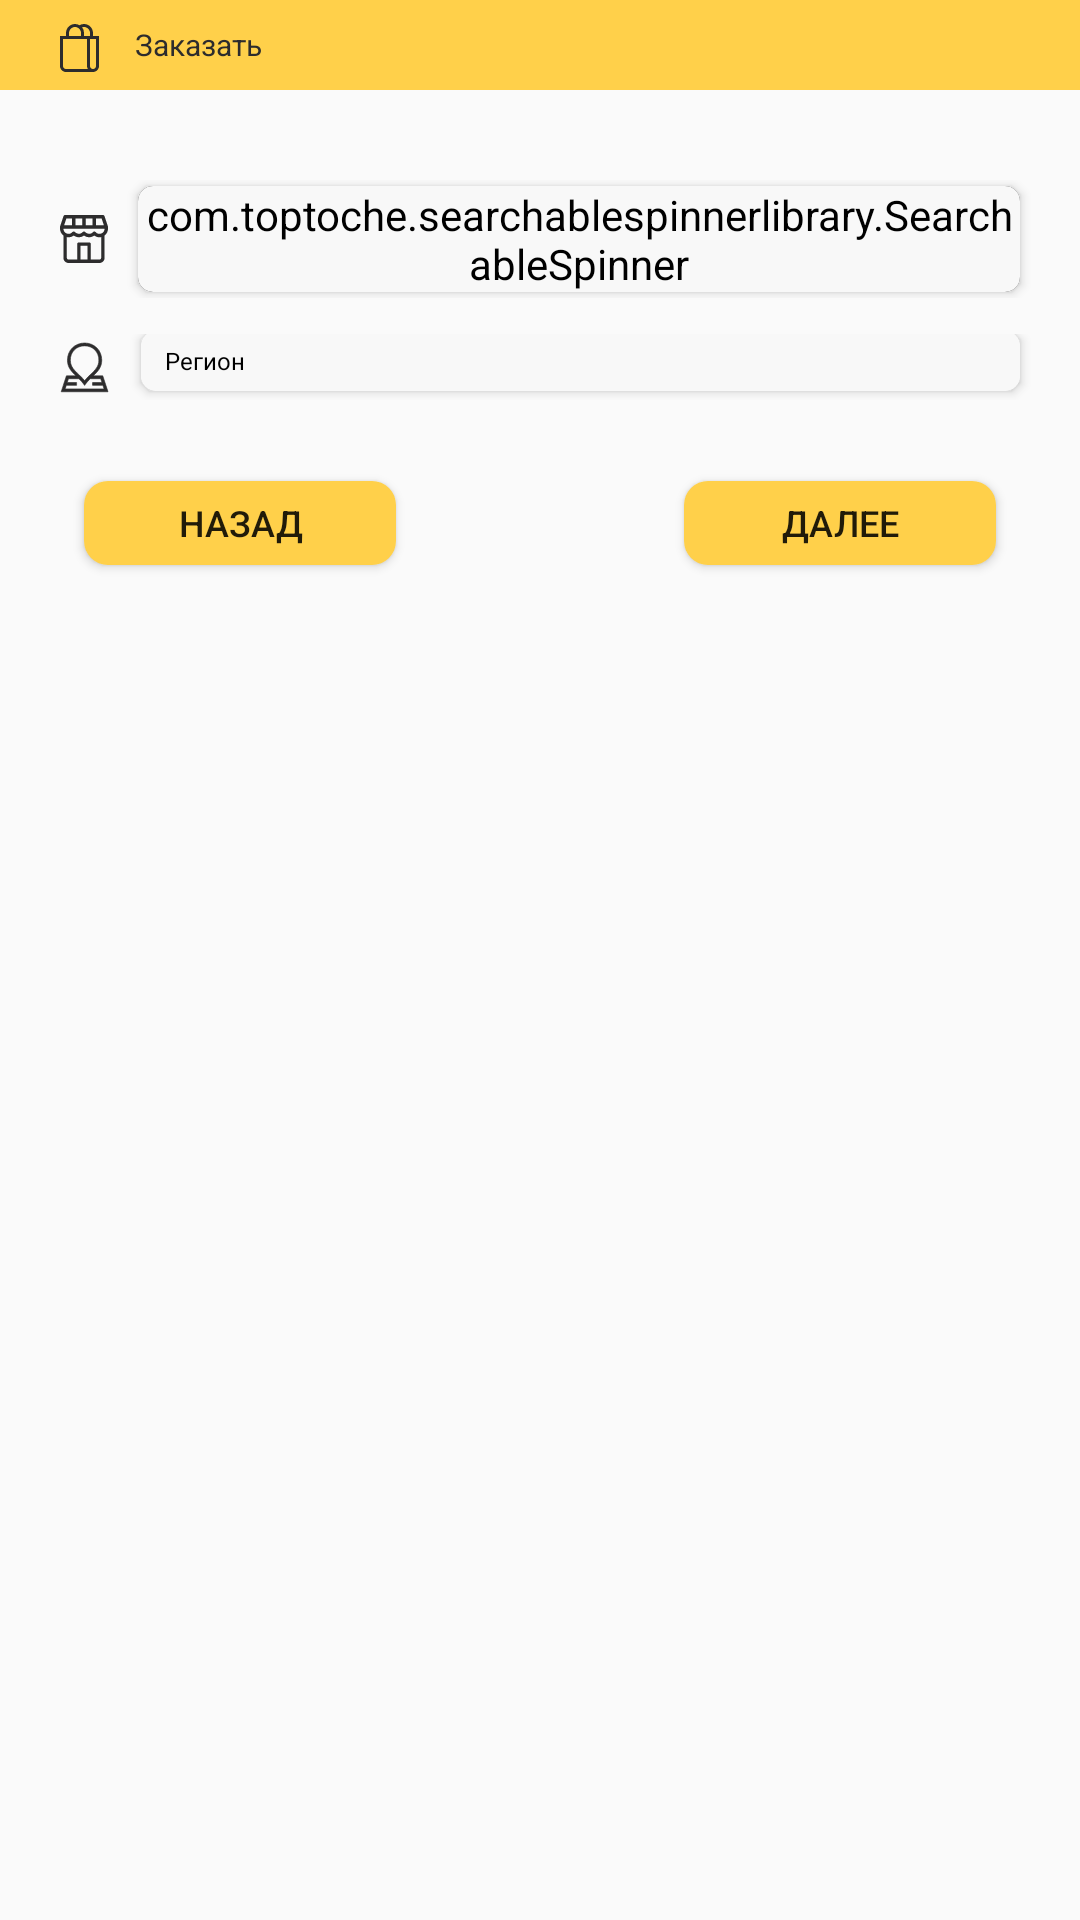

Locate icon controls on the screen. Image size 1080 × 1920, boxes as bbox=(x1, y1, x2, y2).
buy dialog: bbox=(60, 24, 99, 72)
market: bbox=(60, 215, 108, 263)
market map: bbox=(61, 342, 109, 393)
